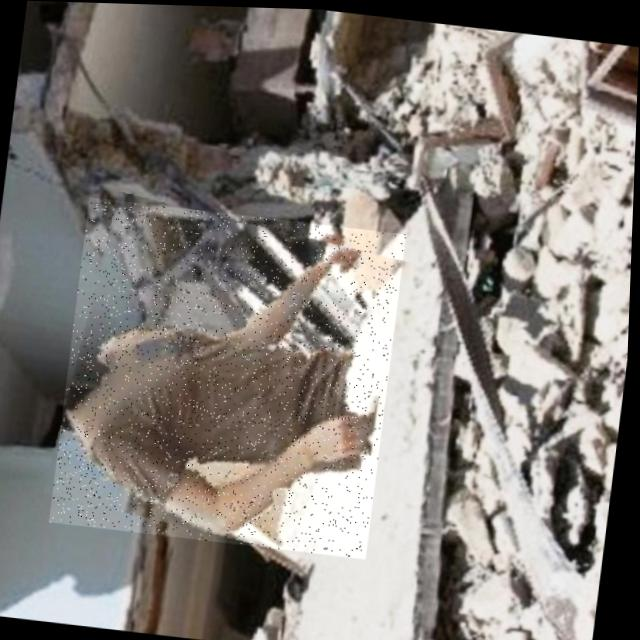Person in Rubble: (52, 195, 408, 557)
